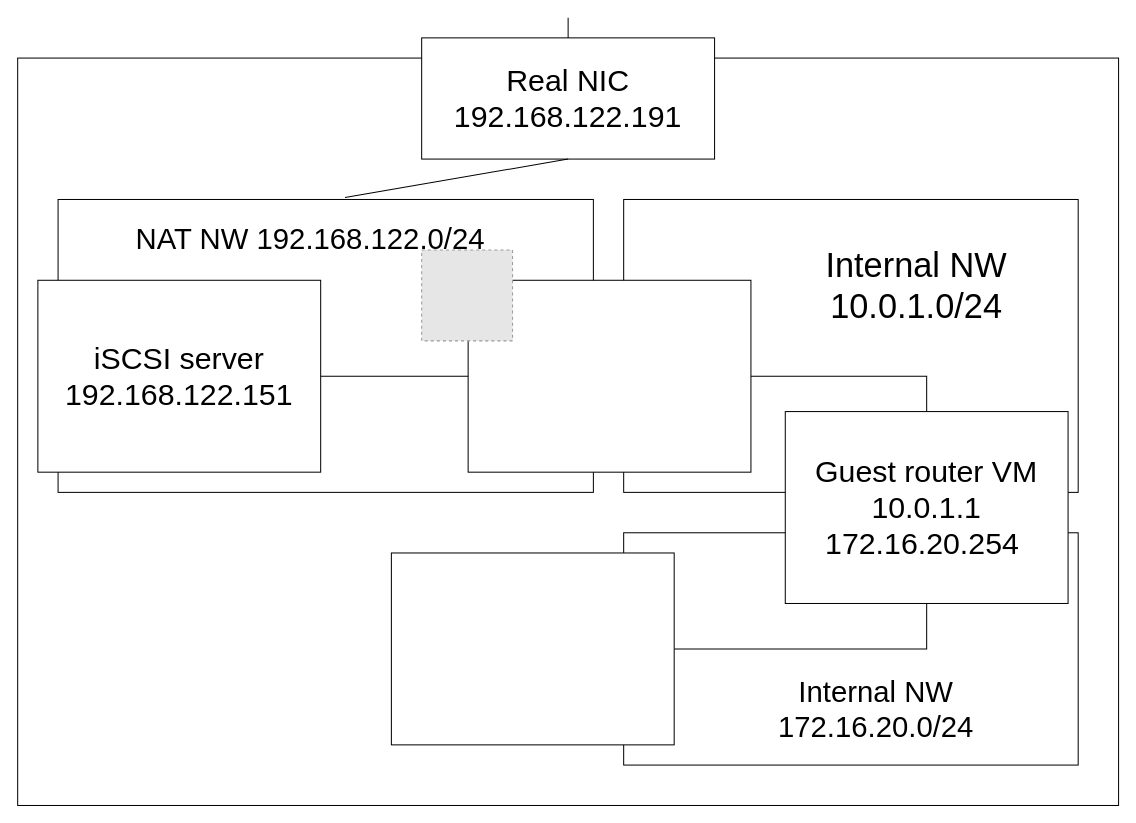
Image size: 1136x823. Some labels were removed from this diagram. Grey dashed boxes stand in for pictures. The centre of each missing label's shape, as x and y in pixels:
Guest VM 172.16.20.80: pixel 532 648
UNNETPRE01 192.168.122.39 10.0.1.99: pixel 609 375
